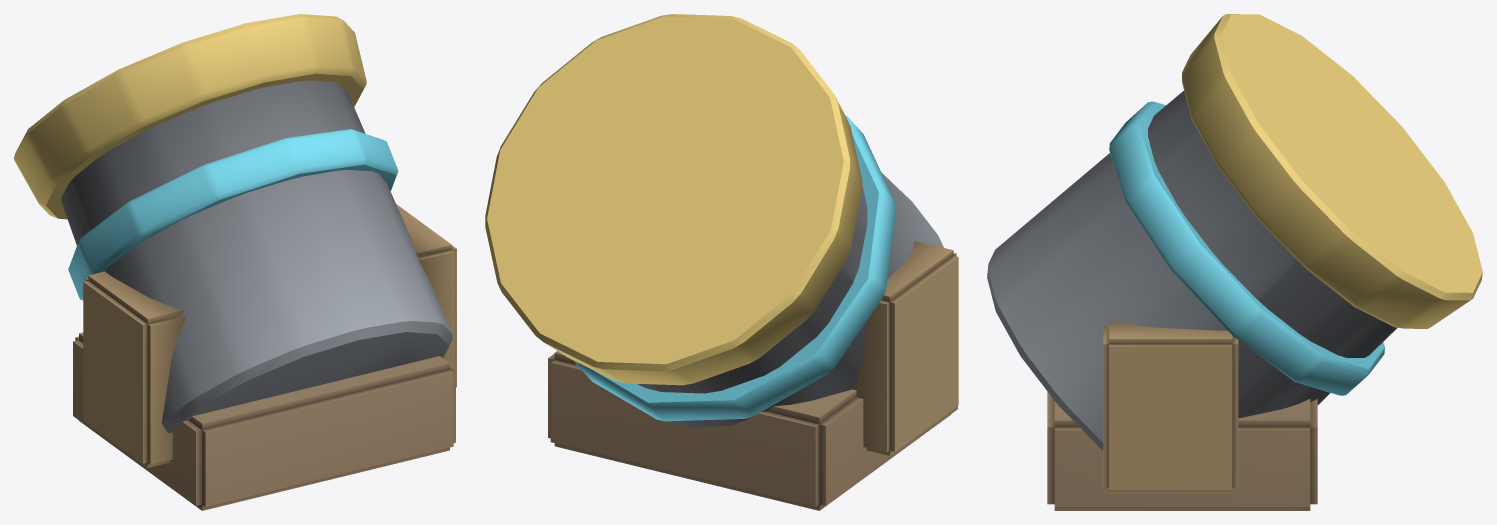
File: rune_mortar_tube_lod0.glb
3 views of the same model, side by side, from view 1: azimuth 30°, elevation 25°; view 2: azimuth 150°, elevation 25°; view 3: azimuth 270°, elevation 25° (orthographic). The views are drawn at different scales.
Visible parts, largest first — view 1: rune_mortar_tube; view 2: rune_mortar_tube; view 3: rune_mortar_tube.
Part boxes in pixels (x1=…): rune_mortar_tube: x1=14, y1=14, x2=456, y2=510; rune_mortar_tube: x1=485, y1=14, x2=958, y2=510; rune_mortar_tube: x1=987, y1=14, x2=1482, y2=510.
Size of the model in its own units: 1.29 by 1.69 by 1.69.
